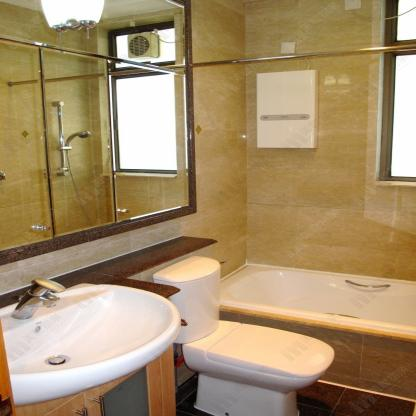Bathtub: (219, 263, 416, 352)
Exhaust Fan: (128, 32, 158, 58)
Faucet: (13, 275, 65, 320)
Toilet: (151, 255, 334, 416)
Toilet Sink: (0, 283, 181, 408)
Water Heater: (255, 70, 318, 149)
